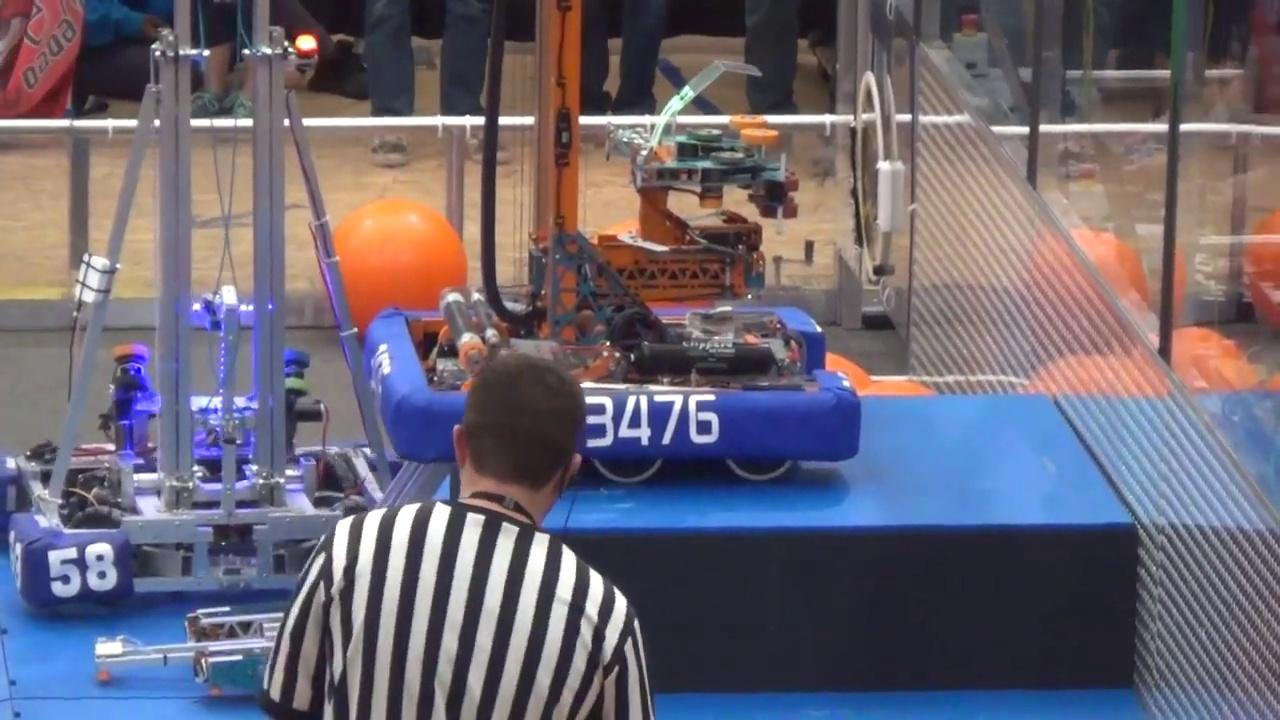robot: (363, 0, 865, 489), (0, 0, 302, 600)
